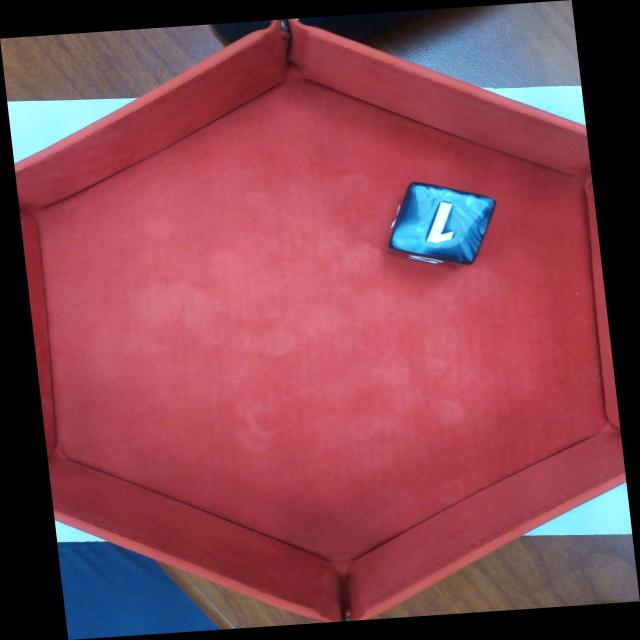dice: (399, 191, 496, 256)
